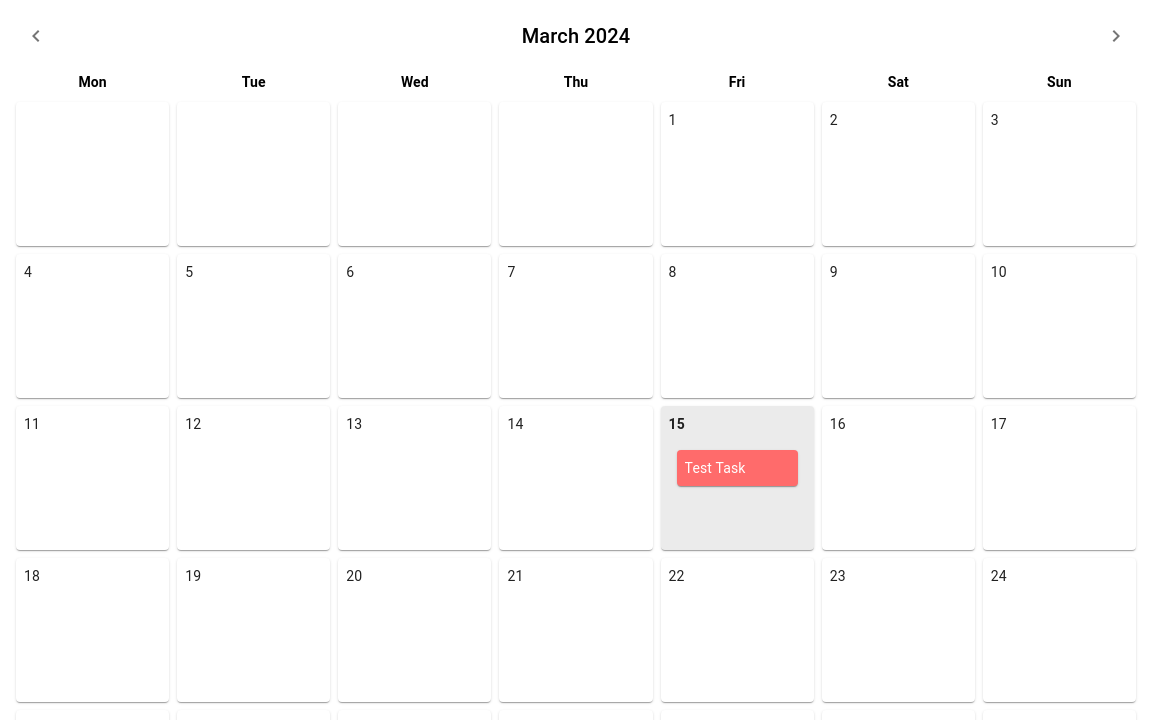
Scenario: Calendar › navigates to previous month when clicking previous button
Note: Find the previous button by its icon
Click the button with test id "ChevronLeftIcon" at (36, 36), box x1=16 y1=16 x2=56 y2=56
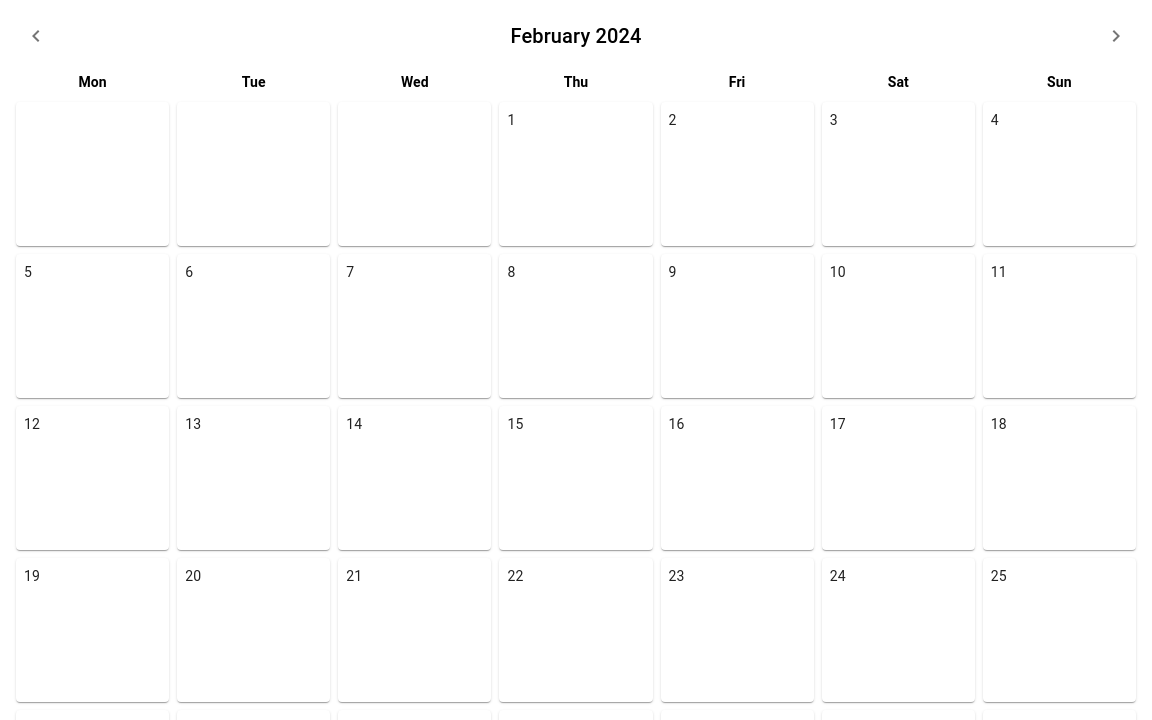
Expected: the heading "February 2024" is shown, x1=510 y1=20 x2=642 y2=52
